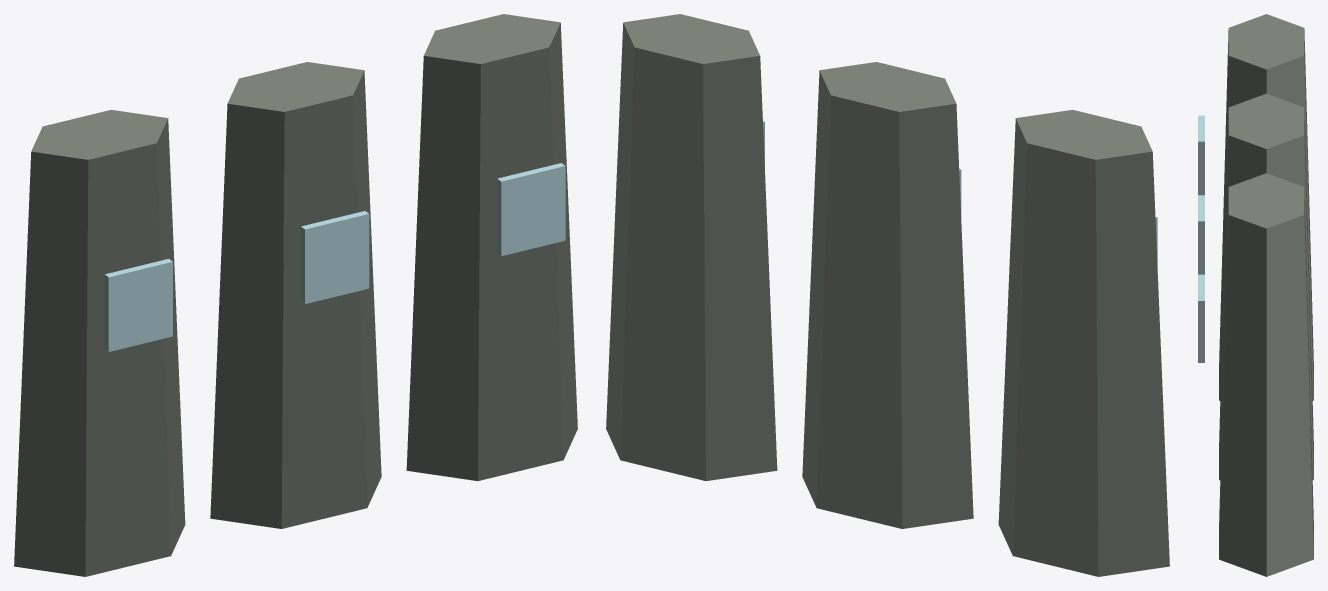
The picture shows the model from 3 angles, left to right: view 1: azimuth 30°, elevation 25°; view 2: azimuth 150°, elevation 25°; view 3: azimuth 270°, elevation 25°; orthographic projection. The views are drawn at different scales.
Parts seen in each view (by area): view 1: 061d1c9ff3d5351eb7883f73074916814f7cbe29689e6542aff227574e7e; view 2: 061d1c9ff3d5351eb7883f73074916814f7cbe29689e6542aff227574e7e; view 3: 061d1c9ff3d5351eb7883f73074916814f7cbe29689e6542aff227574e7e.
Boxes of the visible parts, <box> form: 061d1c9ff3d5351eb7883f73074916814f7cbe29689e6542aff227574e7e: <box>14,14,577,576</box>; 061d1c9ff3d5351eb7883f73074916814f7cbe29689e6542aff227574e7e: <box>606,14,1169,576</box>; 061d1c9ff3d5351eb7883f73074916814f7cbe29689e6542aff227574e7e: <box>1198,14,1313,576</box>.
Bounding box in the file's own units: 1.58 × 1.1 × 0.3386.
1 material, 1 textured.
